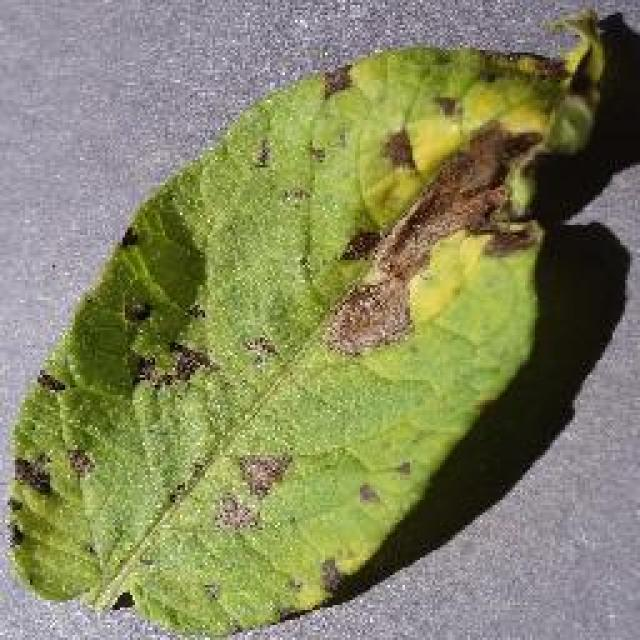Potato: (5, 5, 635, 637)
